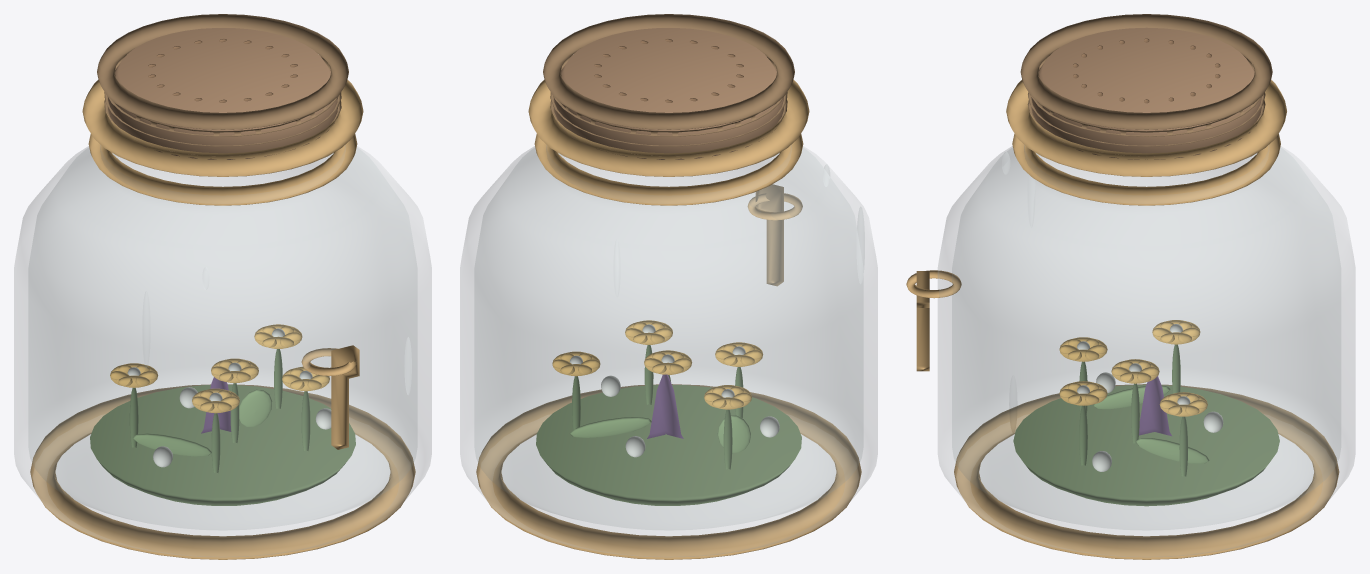
File: jar_05_zuzu.glb
The picture shows the model from 3 angles, left to right: view 1: azimuth 30°, elevation 25°; view 2: azimuth 150°, elevation 25°; view 3: azimuth 270°, elevation 25°; orthographic projection.
Visible parts, largest first — view 1: Outer glass wall, Inner glass wall, Soft moss and earth bed, Natural cork stopper, Foot brass ring, Stopper top binding, Stopper retaining ring, Neck collar, Pressed botanical leaf (×2), Unlabeled key charm, Cork grain (×2), Charm loop (+1 smaller); view 2: Outer glass wall, Inner glass wall, Soft moss and earth bed, Natural cork stopper, Foot brass ring, Stopper top binding, Stopper retaining ring, Neck collar, Pressed botanical leaf (×2), Unlabeled key charm, Cork grain (×2), Hand-cut quartz point (+1 smaller); view 3: Outer glass wall, Inner glass wall, Soft moss and earth bed, Natural cork stopper, Foot brass ring, Stopper top binding, Stopper retaining ring, Neck collar, Pressed botanical leaf (×2), Unlabeled key charm, Hand-cut quartz point, Cork grain (+1 smaller).
Part boxes in pixels (x1,y1,x2,y2): Outer glass wall: [14, 145, 431, 557]; Inner glass wall: [29, 148, 416, 529]; Soft moss and earth bed: [90, 384, 355, 505]; Natural cork stopper: [108, 28, 337, 159]; Foot brass ring: [30, 384, 415, 559]; Stopper top binding: [97, 14, 348, 129]; Stopper retaining ring: [82, 80, 363, 176]; Neck collar: [88, 134, 357, 205]; Pressed botanical leaf (×2): [133, 389, 272, 456]; Unlabeled key charm: [331, 345, 359, 449]; Cork grain (×2): [104, 55, 341, 146]; Charm loop: [301, 348, 356, 375]; Outer glass wall: [460, 145, 877, 557]; Inner glass wall: [475, 148, 862, 529]; Soft moss and earth bed: [536, 385, 801, 505]; Natural cork stopper: [554, 28, 783, 159]; Foot brass ring: [476, 384, 861, 559]; Stopper top binding: [543, 14, 794, 129]; Stopper retaining ring: [528, 80, 809, 176]; Neck collar: [534, 134, 803, 205]; Pressed botanical leaf (×2): [569, 415, 750, 452]; Unlabeled key charm: [755, 184, 783, 286]; Cork grain (×2): [550, 55, 787, 146]; Hand-cut quartz point: [647, 374, 683, 438]; Outer glass wall: [938, 145, 1355, 557]; Inner glass wall: [952, 148, 1340, 529]; Soft moss and earth bed: [1013, 384, 1279, 506]; Natural cork stopper: [1031, 27, 1261, 159]; Foot brass ring: [954, 384, 1339, 559]; Stopper top binding: [1020, 14, 1272, 129]; Stopper retaining ring: [1006, 80, 1286, 176]; Neck collar: [1012, 134, 1280, 205]; Pressed botanical leaf (×2): [1093, 385, 1209, 463]; Unlabeled key charm: [916, 271, 929, 371]; Hand-cut quartz point: [1139, 376, 1171, 436]; Cork grain: [1030, 54, 1262, 136].
Bounding box in the file's own units: 1.13 × 1.27 × 1.21.
